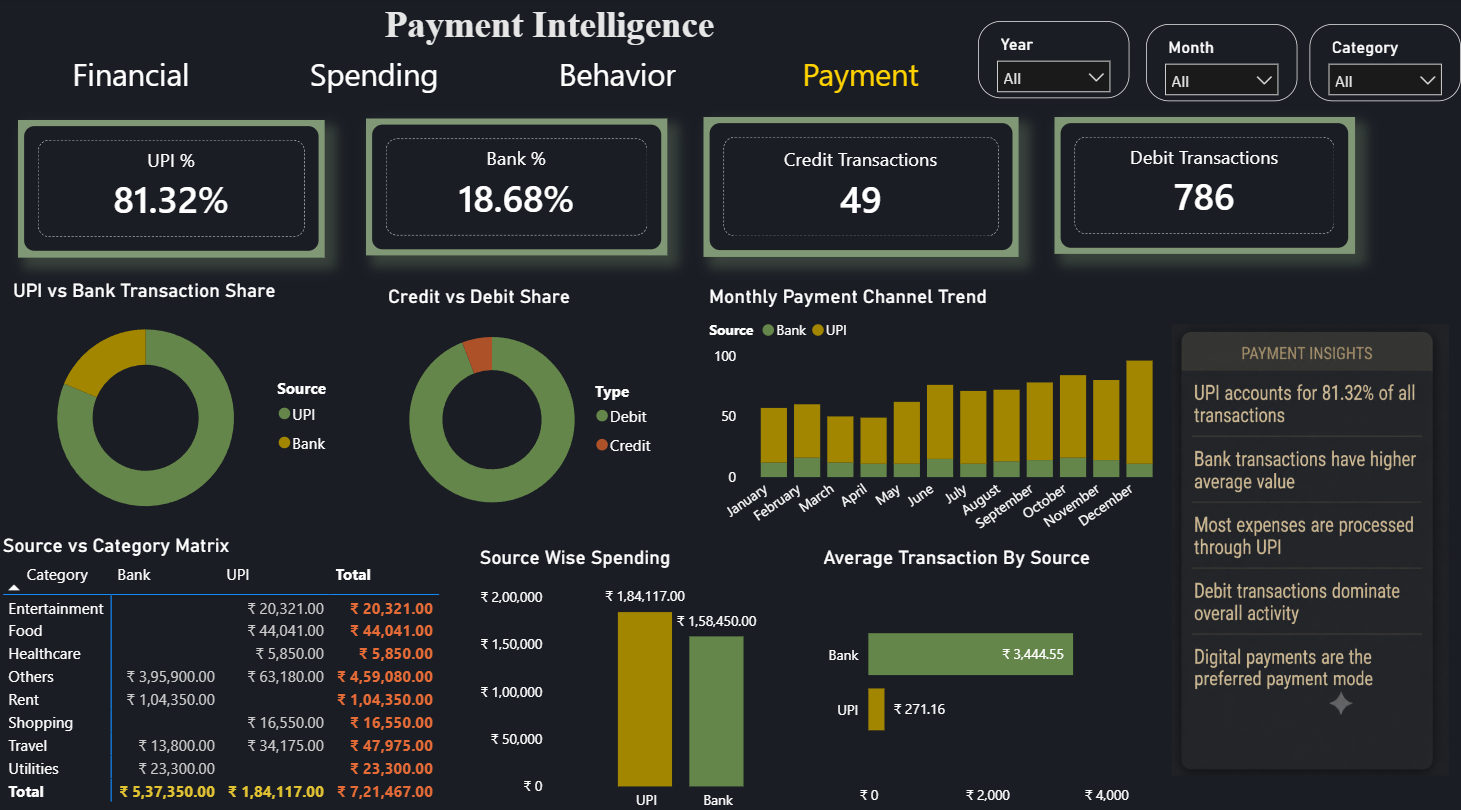

Layout of this report page (visuals, bound fields, positions):
{"tool":"powerbi","page":{"name":"Payment","canvas":[1280,720],"ordinal":3},"visuals":[{"type":"textbox","box":[21.6,0,1258.3,56.1],"z":0},{"type":"cardVisual","fields":{"Data":["Sheet1.UPI %"]},"box":[18.2,107.2,267.1,119.9],"z":1000},{"type":"cardVisual","title":"T","fields":{"Data":["Sheet1.Bank %"]},"box":[321.3,105.8,262.7,119.1],"z":2000},{"type":"cardVisual","title":"T","fields":{"Data":["Sheet1.Credit Transactions"]},"box":[615.7,105,274.5,121.7],"z":3000},{"type":"cardVisual","title":"T","fields":{"Data":["Sheet1.Debit Transactions"]},"box":[922.2,104.5,262,119.6],"z":4000},{"type":"slicer","fields":{"Values":["Sheet1.Year"]},"box":[855.7,21.6,132.3,67.6],"z":5000},{"type":"slicer","fields":{"Values":["Sheet1.Month"]},"box":[1000.9,23,132.3,67.6],"z":6000},{"type":"slicer","fields":{"Values":["Sheet1.Category"]},"box":[1144.7,23,132.3,67.6],"z":7000},{"type":"donutChart","title":"UPI vs Bank Transaction Share","fields":{"Y":["CountNonNull(Sheet1.Transaction_ID)"],"Category":["Sheet1.Source"]},"box":[9.5,245.8,303.1,222],"z":8000},{"type":"donutChart","title":"Credit vs Debit Share","fields":{"Y":["CountNonNull(Sheet1.Transaction_ID)"],"Category":["Sheet1.Type"]},"box":[336.5,250.6,248.2,214.8],"z":9000},{"type":"clusteredColumnChart","title":"Source Wise Spending","fields":{"Category":["Sheet1.Source"],"Y":["Sum(Sheet1.Amount_Abs)"]},"box":[416.4,478.5,298.3,239.2],"z":10000},{"type":"columnChart","title":"Monthly Payment Channel Trend","fields":{"Series":["Sheet1.Source"],"Y":["CountNonNull(Sheet1.Transaction_ID)"],"Category":["Sheet3.Month"]},"box":[615.7,250.6,408.1,229.1],"z":11000},{"type":"barChart","title":"Average Transaction By Source","fields":{"Category":["Sheet1.Source"],"Y":["Sheet1.Average Transaction By Source"]},"box":[714.7,478.5,308.9,234.7],"z":12000},{"type":"pivotTable","title":"Source vs Category Matrix","fields":{"Columns":["Sheet1.Source"],"Values":["Sum(Sheet1.Amount_Abs)"],"Rows":["Sheet1.Category"]},"box":[0,467.9,416.4,251.4],"z":13000},{"type":"image","box":[1023.3,245,241.7,475],"z":14000},{"type":"pageNavigator","box":[15.1,42.4,840.4,48.5],"z":15000}]}

Visuals, with their boxes in screenshot pixels (x1, y1, x2, y2), scaled from the page's 1280x720 canvas onto the 1461x810 screenshot:
textbox: [25, 0, 1460, 63]
cardVisual - Sheet1.UPI %: [21, 121, 326, 255]
"T" cardVisual: [367, 119, 667, 253]
"T" cardVisual: [703, 118, 1016, 255]
"T" cardVisual: [1053, 118, 1352, 252]
slicer - Sheet1.Year: [977, 24, 1128, 100]
slicer - Sheet1.Month: [1142, 26, 1293, 102]
slicer - Sheet1.Category: [1307, 26, 1458, 102]
"UPI vs Bank Transaction Share" donutChart: [11, 277, 357, 526]
"Credit vs Debit Share" donutChart: [384, 282, 667, 524]
"Source Wise Spending" clusteredColumnChart: [475, 538, 816, 807]
"Monthly Payment Channel Trend" columnChart: [703, 282, 1169, 540]
"Average Transaction By Source" barChart: [816, 538, 1168, 802]
"Source vs Category Matrix" pivotTable: [0, 526, 475, 809]
image: [1168, 276, 1444, 809]
pageNavigator: [17, 48, 976, 102]
